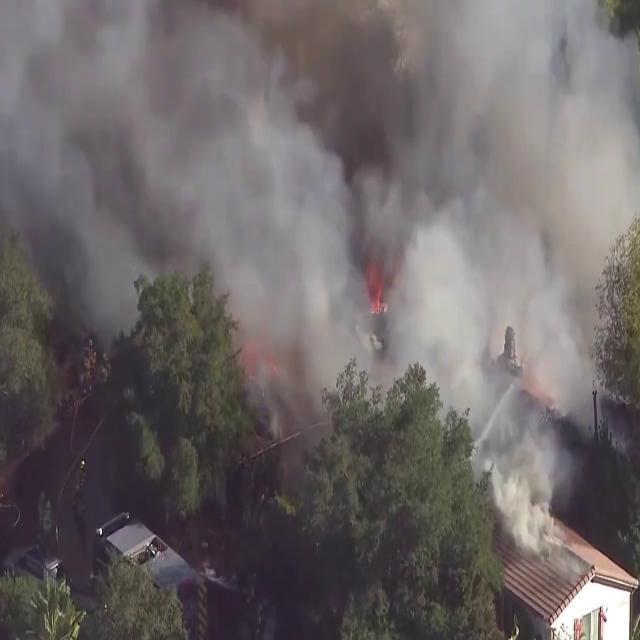Smoke: (1, 0, 638, 456)
